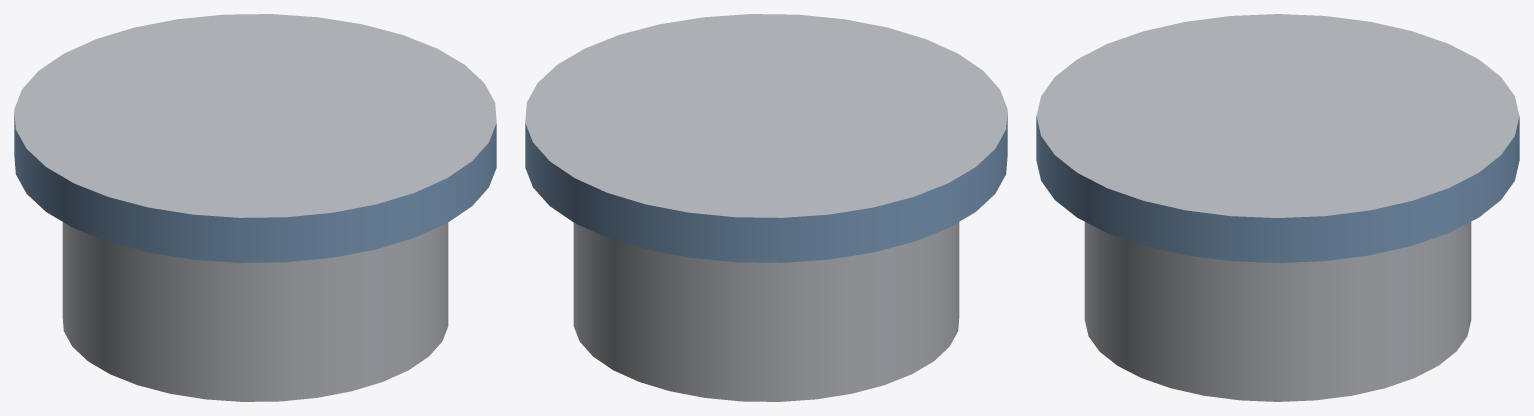
The picture shows the model from 3 angles, left to right: view 1: azimuth 30°, elevation 25°; view 2: azimuth 150°, elevation 25°; view 3: azimuth 270°, elevation 25°; orthographic projection.
Visible parts, largest first — view 1: ratchet_0-70; view 2: ratchet_0-70; view 3: ratchet_0-70.
Boxes of the visible parts, left/top/right/bottom form: ratchet_0-70: left=14, top=14, right=496, bottom=401; ratchet_0-70: left=525, top=14, right=1007, bottom=401; ratchet_0-70: left=1036, top=14, right=1519, bottom=401.
Bounding box in the file's own units: 15 × 7 × 15.
